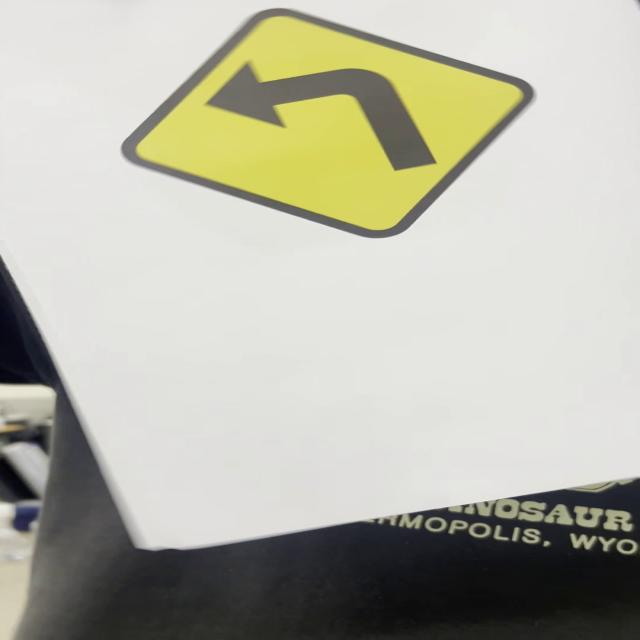left: (120, 10, 534, 239)
